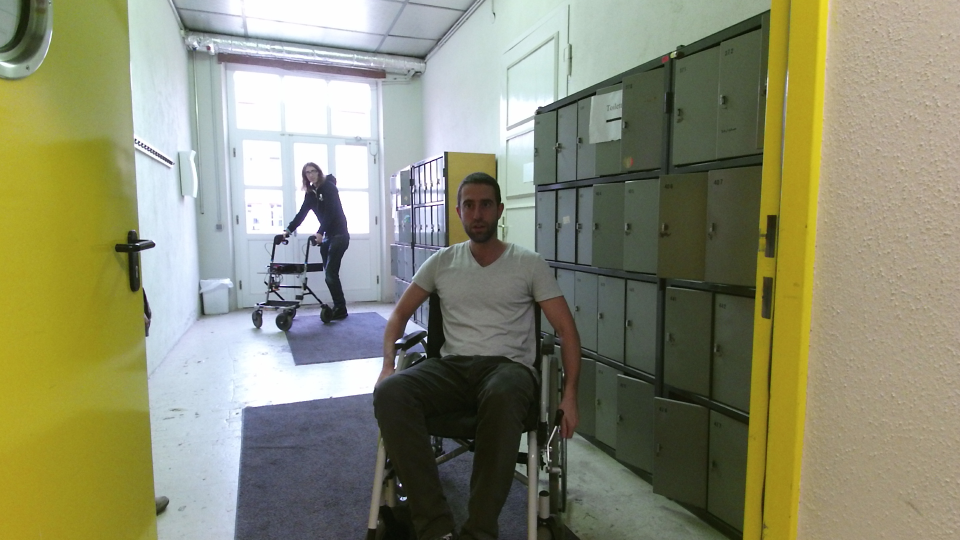wheelchair: (359, 170, 584, 540)
